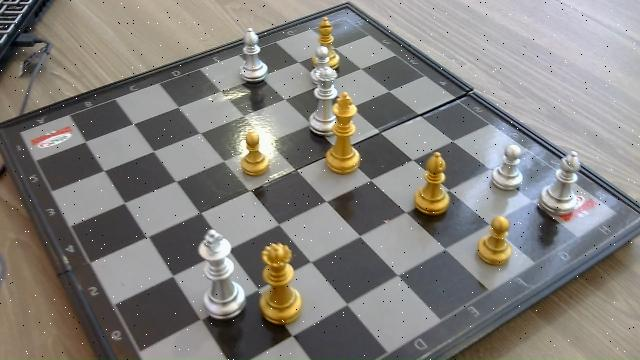black_bishop: (412, 151, 451, 216), (319, 16, 335, 46)
black_king: (330, 92, 360, 174)
black_pawn: (477, 217, 512, 266), (239, 130, 269, 177)
black_queen: (258, 242, 304, 324)
white_bishop: (540, 151, 583, 216), (238, 28, 268, 83)
white_king: (198, 229, 244, 320)
white_pawn: (492, 144, 524, 190), (316, 47, 329, 67)
white_queen: (310, 67, 336, 135)
